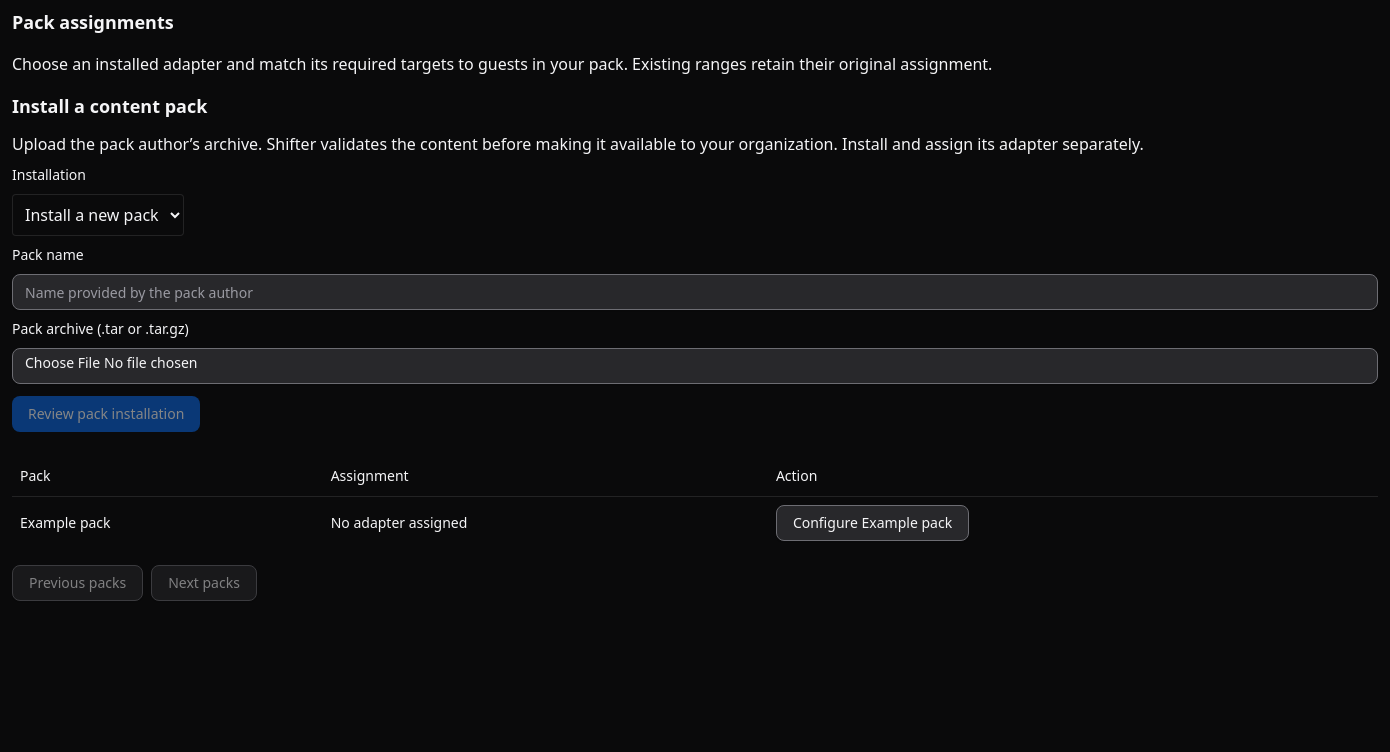
Test: pack adapter assignments › blocks assignment when the chosen adapter has not passed compatibility checks
The image size is (1390, 752).
Click the button "Configure Example pack": (873, 522) top-left (776, 504), bottom-right (969, 540)
(page scrolled)
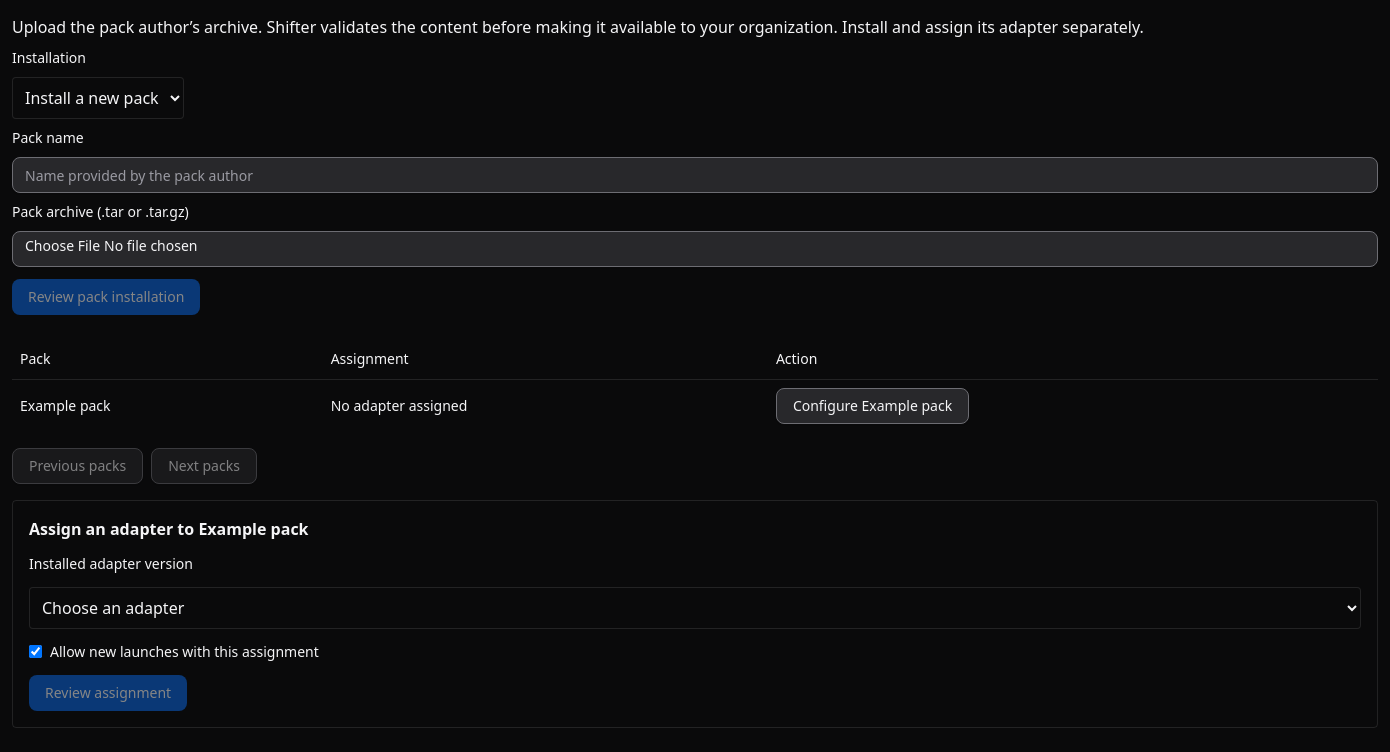
Expected: the dropdown labelled "Installed adapter version" is shown, top-left (29, 586), bottom-right (1361, 628)
Expected: the button "Review assignment" is disabled, top-left (29, 674), bottom-right (187, 710)
